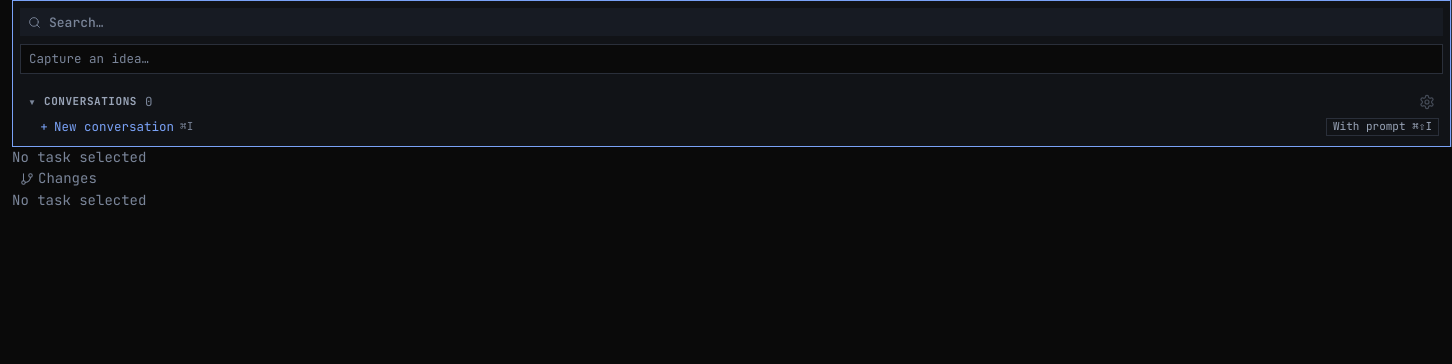
Test: overhaul acceptance - module Changes and current worktrees › [overhaul-196] has no pull-request action for the module default branch
Click the button with aria-label "Open module Changes".
click(58, 179)  # box [12, 168, 105, 190]
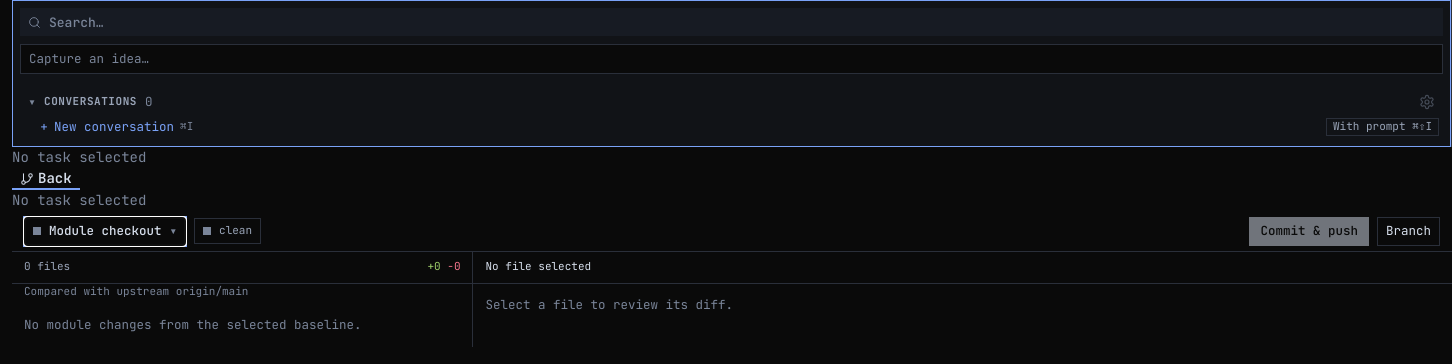
Check: the element with test id "module-version-control" is shown, box [12, 212, 1451, 346]
